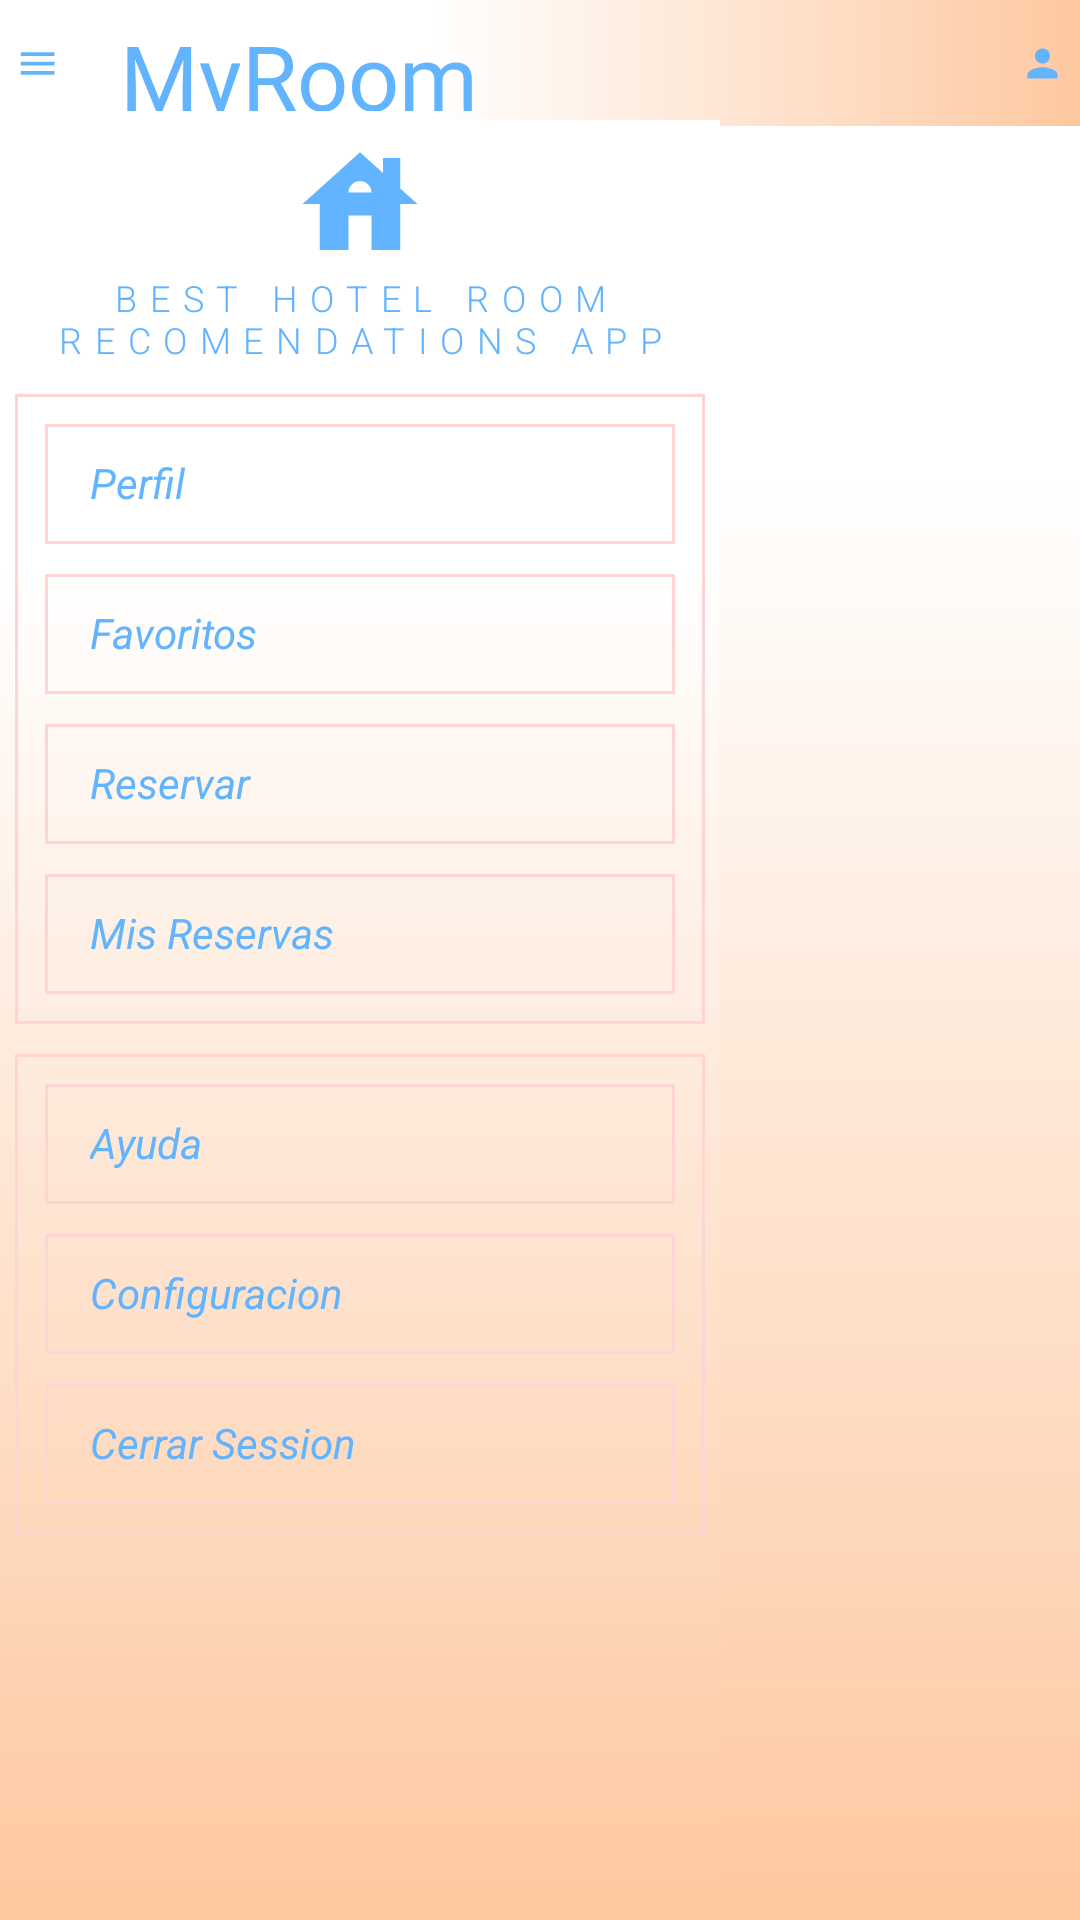

Icons on this 1080*1920 Android screen, each with the point to tap as (x=x, y=y):
house: (x=360, y=201)
menu: (x=37, y=63)
person: (x=1042, y=63)
